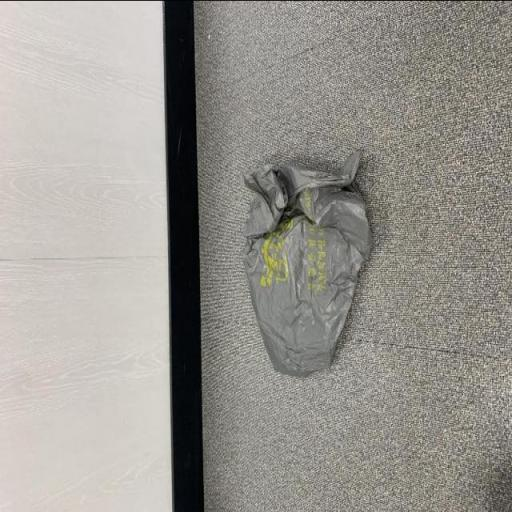plastic-bag: (242, 142, 380, 382)
